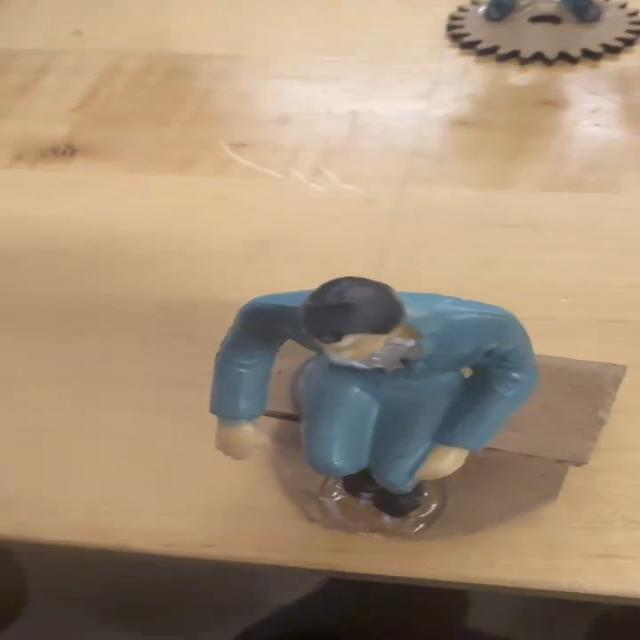Authorized: (200, 264, 520, 560)
